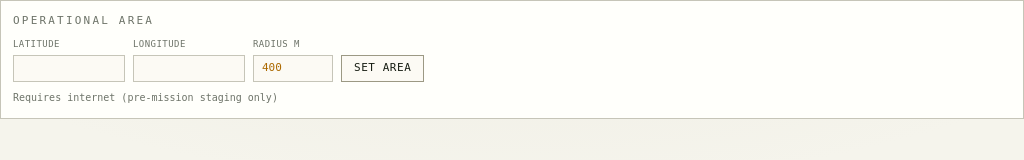
Test: OperationalArea › posts lat/lng/radius and shows the building count on success
Type "32.8" into the field labelled "Latitude" at (69, 68), box [13,55,125,82]
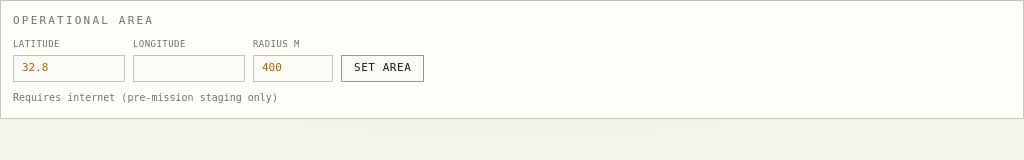
Type "-117.2" into the field labelled "Longitude" at (189, 68), box [133,55,245,82]
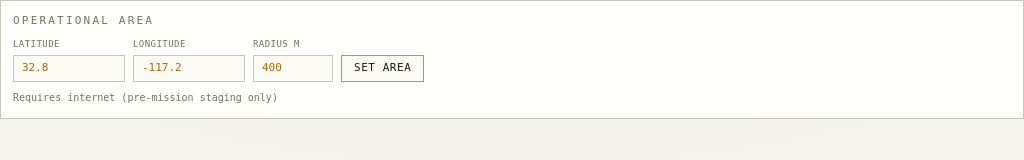
Click the button "Set Area" at (383, 68), box [341,55,424,82]
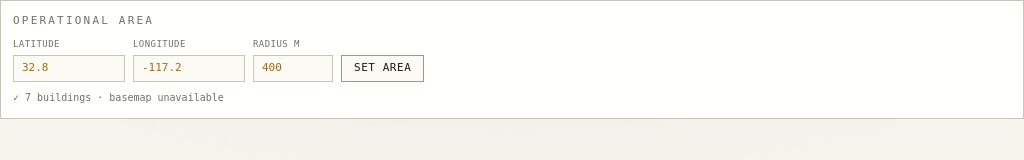
Check: the text "✓ 7 buildings · basemap unavailable" is shown, box [13,92,224,102]
